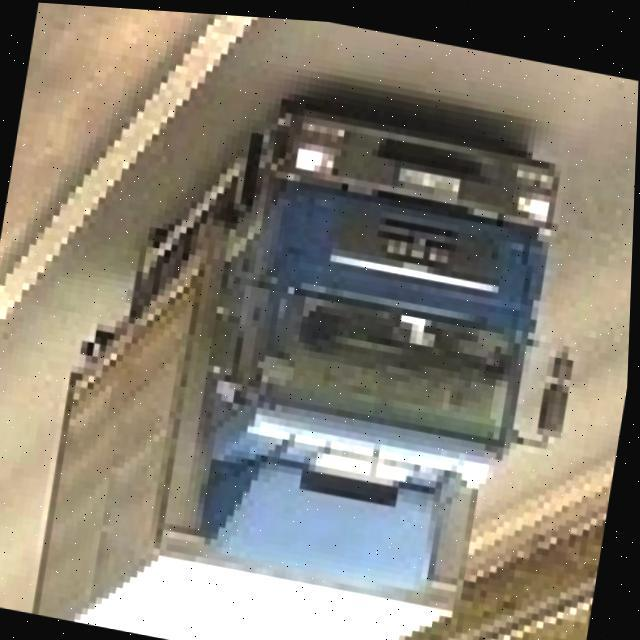truck: (40, 69, 612, 640)
